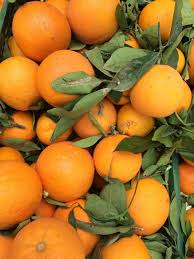orange: (32, 49, 97, 107), (9, 212, 86, 259), (37, 140, 94, 200), (133, 58, 184, 119), (90, 130, 143, 181)
